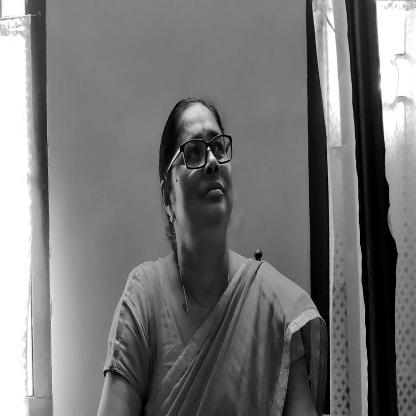Distracted: (166, 104, 245, 244)
